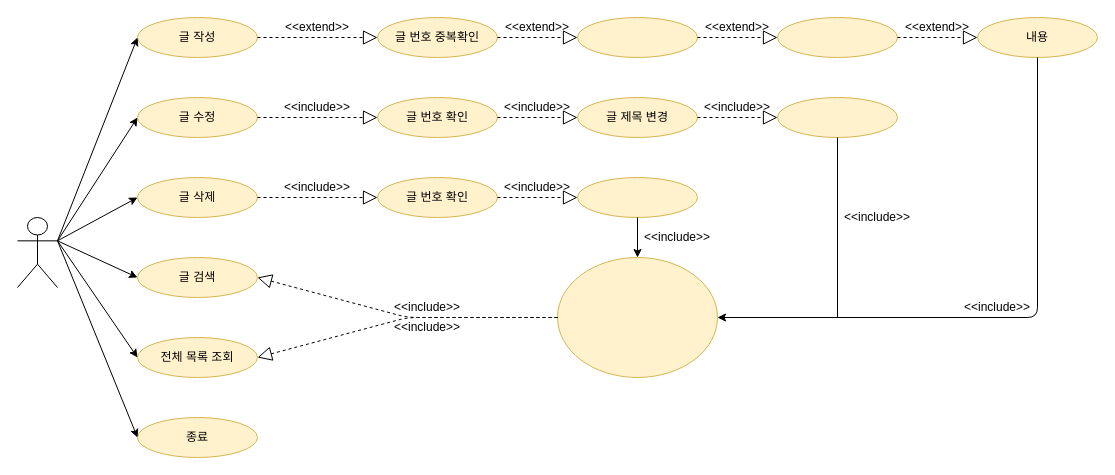
This 1115x475 diagram has some shape labels left out. The shapes that lost their labels are listed below. From the top down, each one's centre as x and y in pixels, then its label:
At point 637,37: "글 제목".
At point 837,37: "작성자".
At point 837,117: "글 작성자 변경".
At point 637,197: "작성 글 삭제".
At point 37,252: "User".
At point 637,317: "작성 글".
